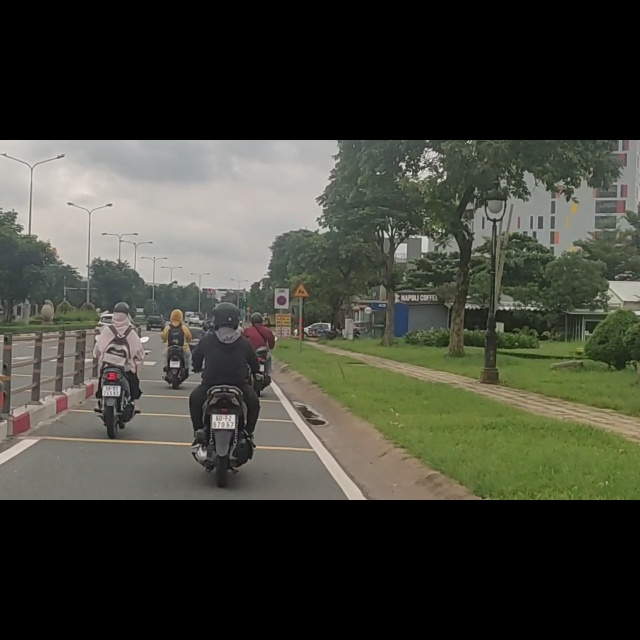bien_cam: (293, 254, 311, 280), (277, 276, 287, 294)
